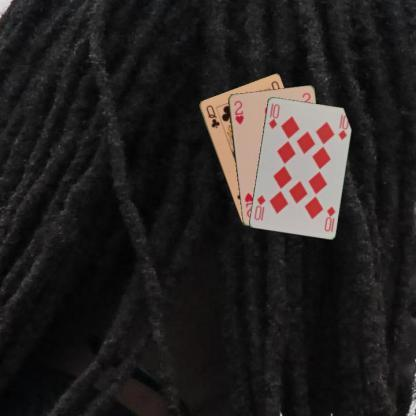10d: (266, 101, 281, 130), (322, 204, 336, 233)
2h: (231, 98, 245, 126)
Qc: (203, 102, 221, 130)
